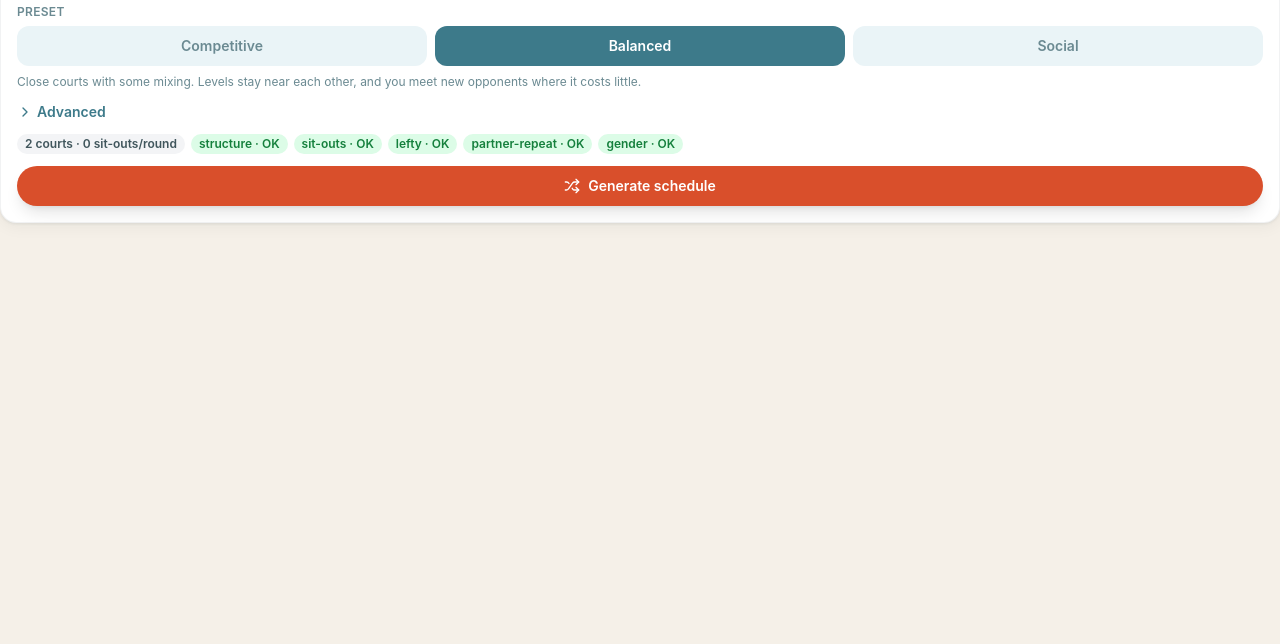
Test: MatchmakingContainer — Fix repeat (M3.8, D-026) › shows ranked swap suggestions and applies one into the preview
The image size is (1280, 644).
Click the button "Generate schedule": (640, 186) x1=17 y1=166 x2=1263 y2=206
(page scrolled)
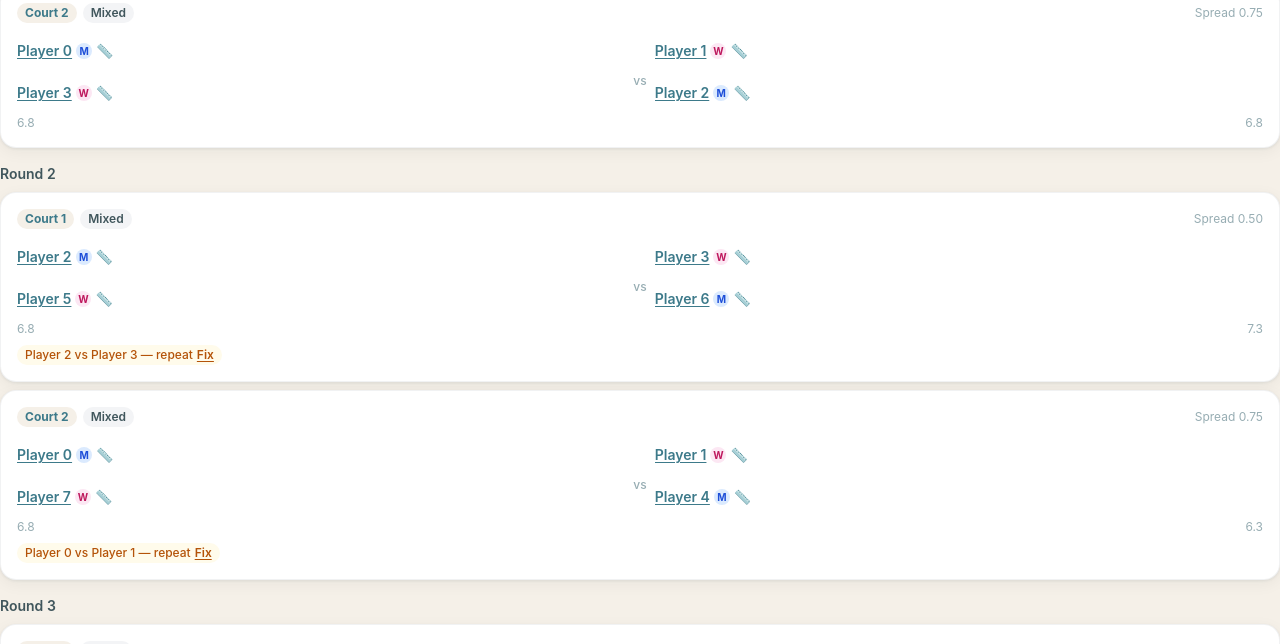
Check: the 1st button "Fix" is shown
Click the 1st button "Fix": (205, 355) x1=189 y1=335 x2=222 y2=375
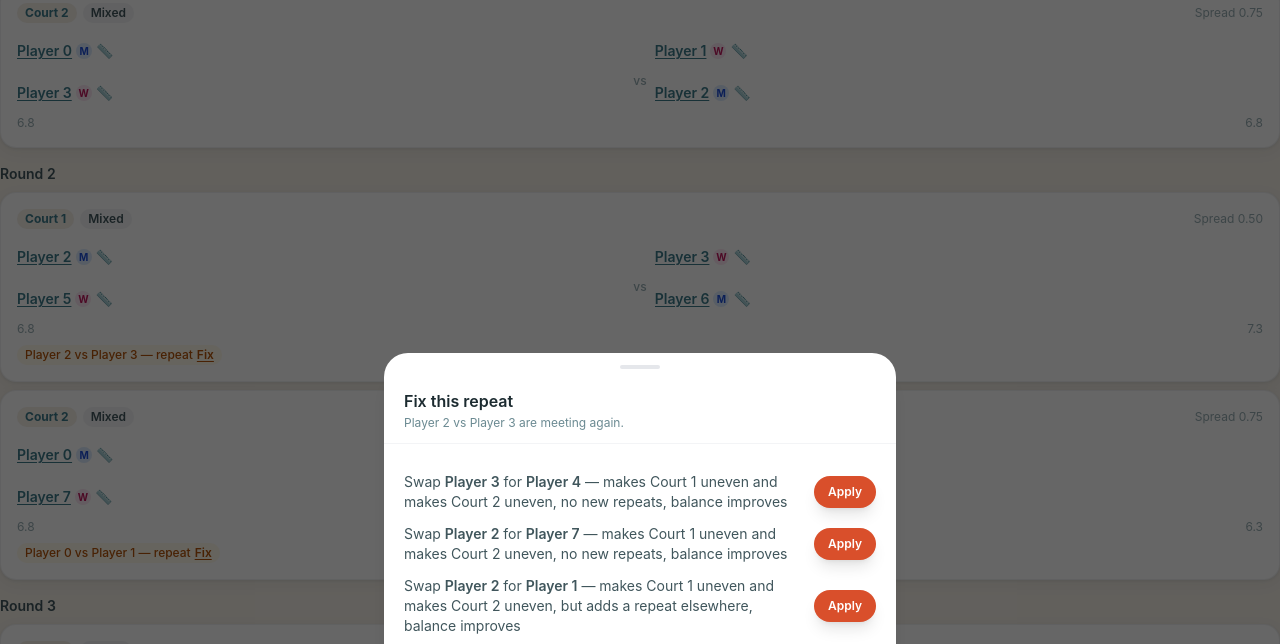
Check: the heading "Fix this repeat" is shown, box x1=404 y1=391 x2=513 y2=411
Check: the 1st button "Apply" is shown
Click the 1st button "Apply": (845, 492) x1=814 y1=476 x2=876 y2=508
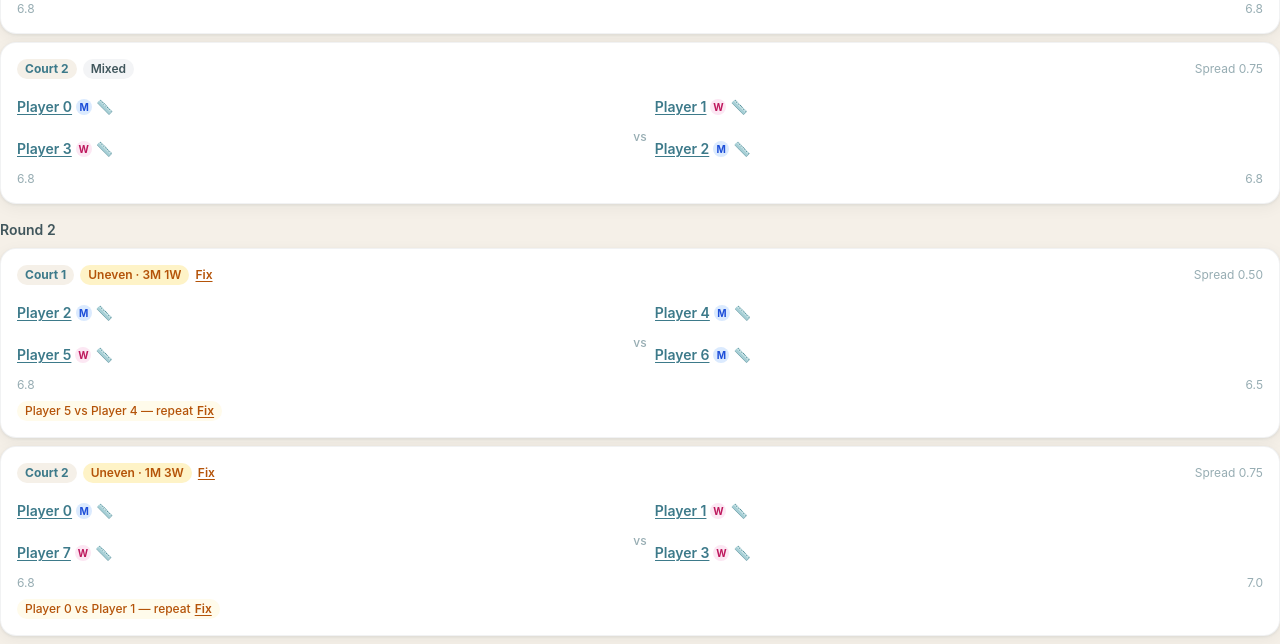
Check: the heading "Fix this repeat" is gone
